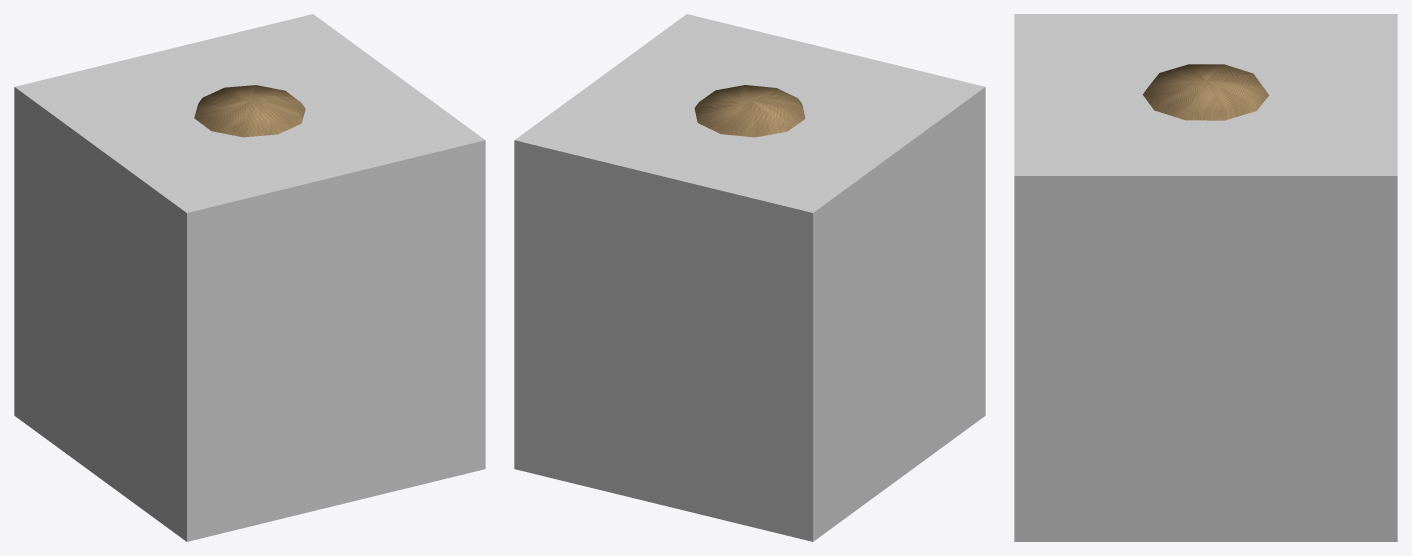
The model's file is SM_Sack.fbx.
3 renders of one model, left to right at view 1: azimuth 30°, elevation 25°; view 2: azimuth 150°, elevation 25°; view 3: azimuth 270°, elevation 25°, orthographic. The views are drawn at different scales.
Visible parts, largest first — view 1: Sack_Col0, Sack_Body; view 2: Sack_Col0, Sack_Body; view 3: Sack_Col0, Sack_Body.
Part boxes in pixels (<box>): Sack_Col0: <box>14,14,485,541</box>; Sack_Body: <box>194,85,305,137</box>; Sack_Col0: <box>514,14,985,541</box>; Sack_Body: <box>694,85,805,137</box>; Sack_Col0: <box>1014,14,1397,541</box>; Sack_Body: <box>1142,64,1268,120</box>.
Size of the model in its own units: 1.9 by 2.08 by 1.9.
